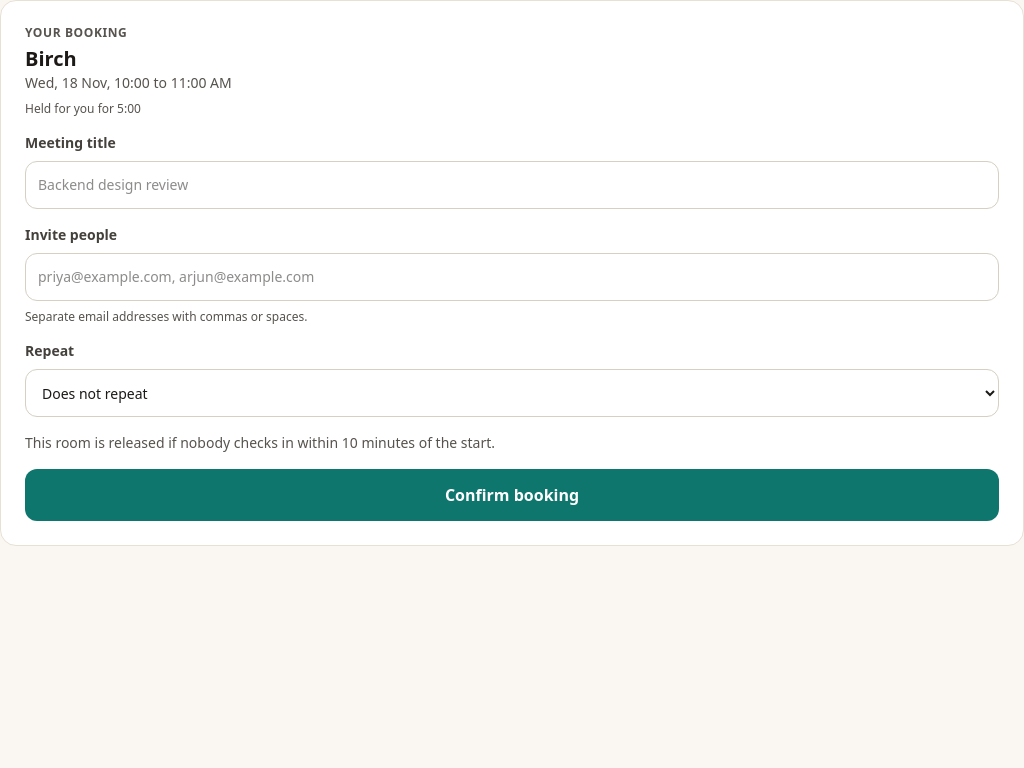
Test: BookingPanel › requires a title
Click the button "Confirm booking": point(512, 495) [25,469,999,521]
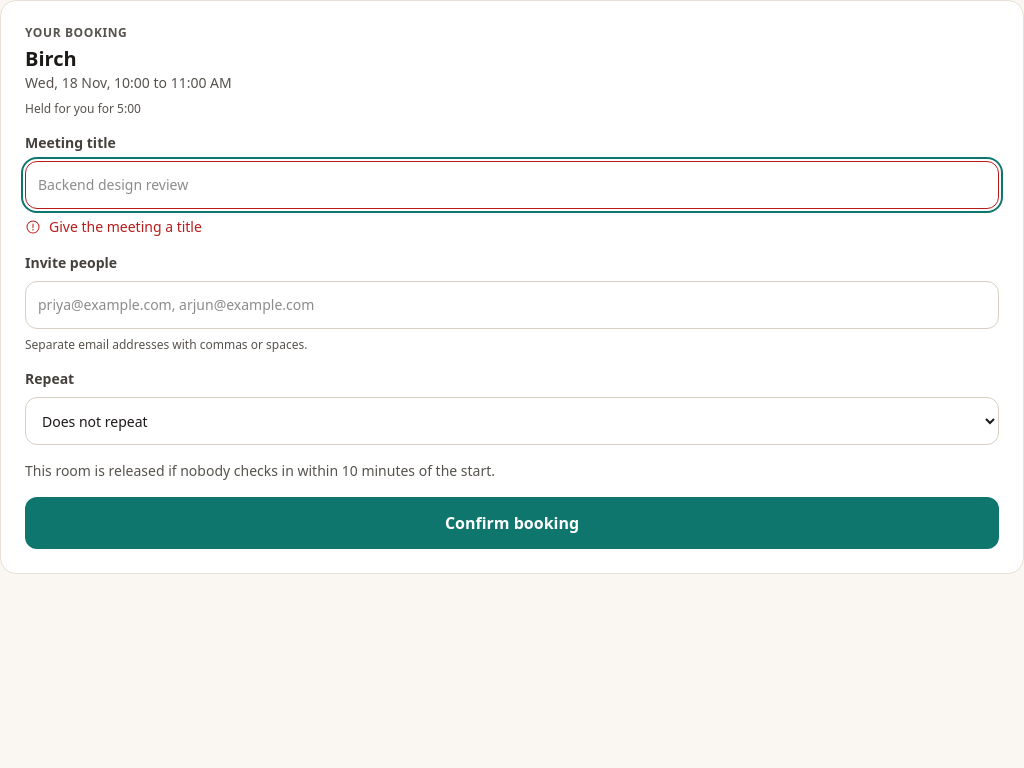
Result: the text "Give the meeting a title" is shown at [25,217,202,236]
